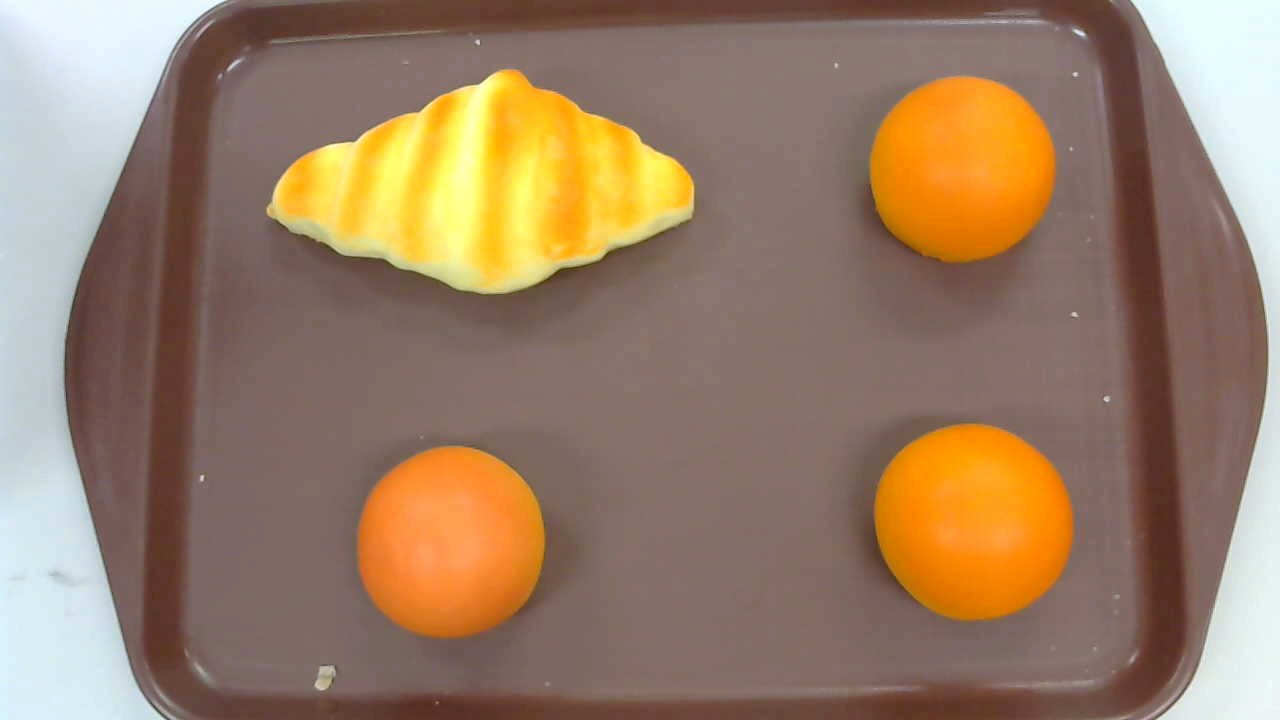bun: (872, 422, 1075, 622), (356, 445, 545, 639), (869, 73, 1058, 263)
croissant: (265, 66, 695, 294)
